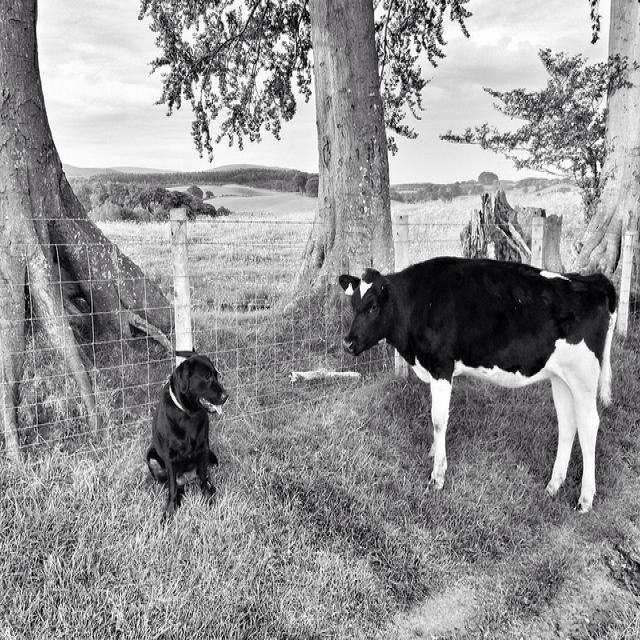cow: (333, 255, 623, 515)
